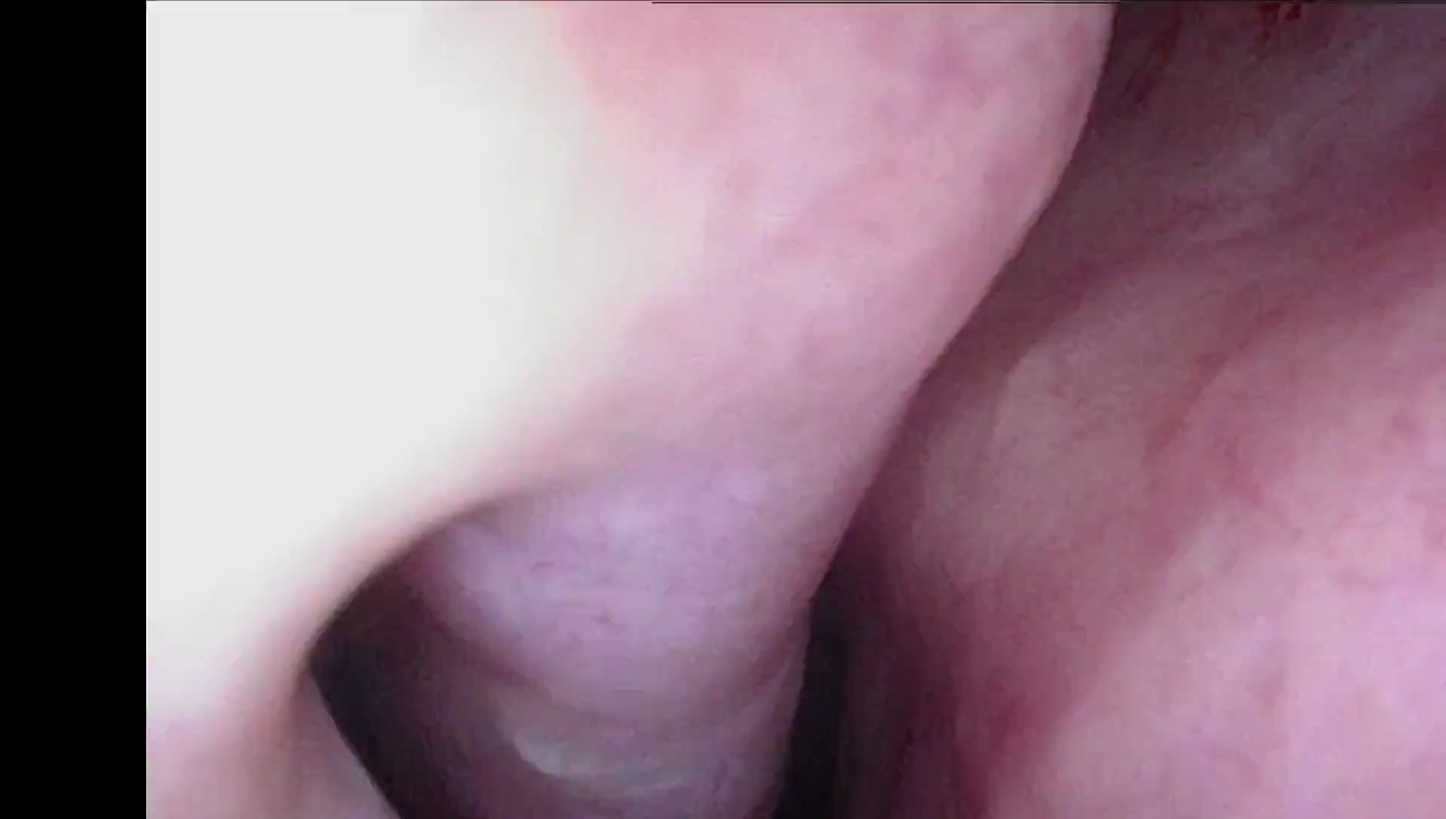close_wall: (158, 8, 812, 819)
next: (283, 491, 571, 819), (736, 498, 983, 819)
